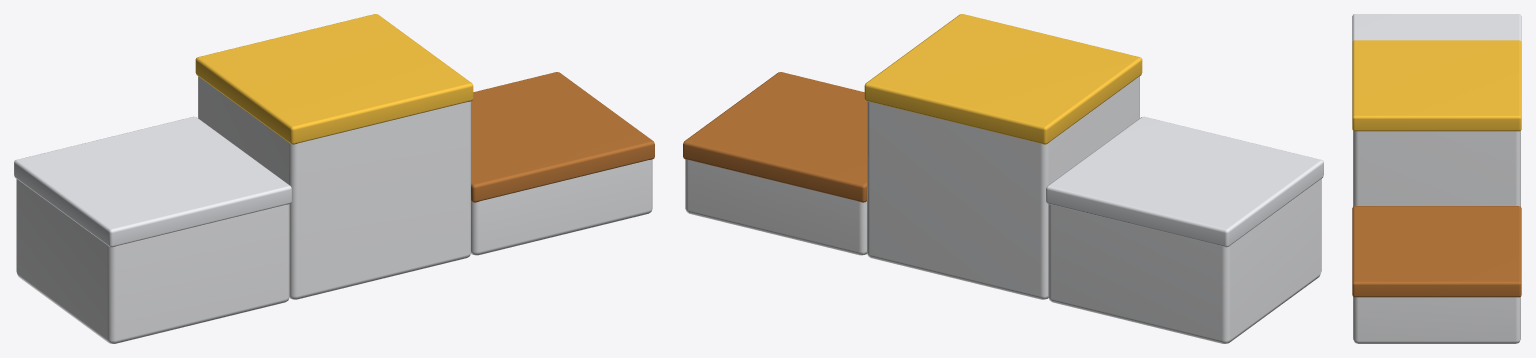
Rendered from Podium.fbx.
3 views of the same model, side by side, from view 1: azimuth 30°, elevation 25°; view 2: azimuth 150°, elevation 25°; view 3: azimuth 270°, elevation 25° (orthographic). The views are drawn at different scales.
Parts seen in each view (by area): view 1: Podium; view 2: Podium; view 3: Podium.
Boxes of the visible parts, <box> form: Podium: <box>14,14,654,343</box>; Podium: <box>683,14,1323,343</box>; Podium: <box>1352,14,1521,343</box>.
Bounding box in the file's own units: 7.82 × 2.4 × 2.42.
1 material, 1 textured.
